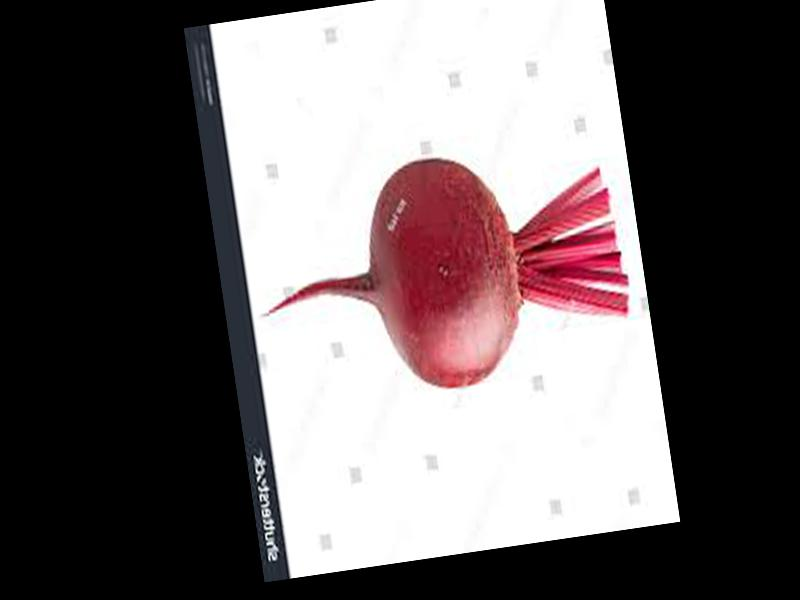Beet: (243, 133, 638, 413)
